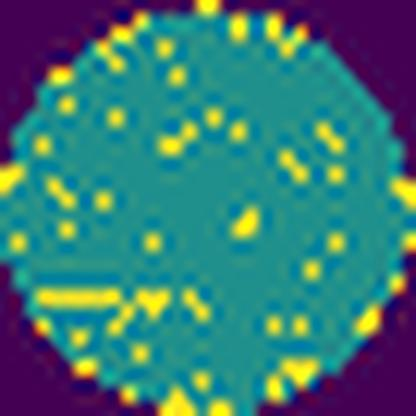Scratch: (30, 284, 176, 340)
